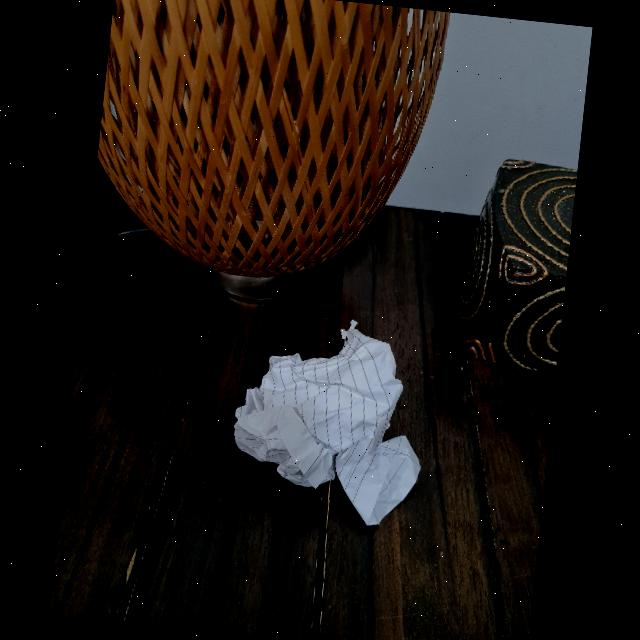trash: (227, 311, 436, 533)
